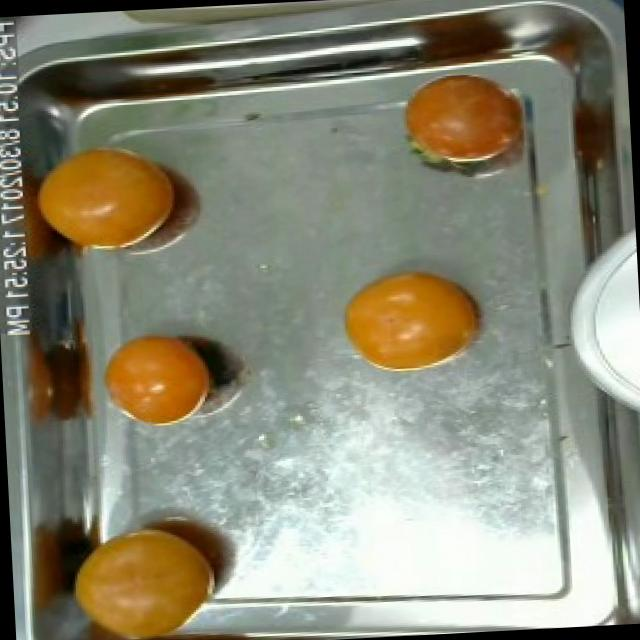Fruit: (55, 507, 240, 640), (25, 129, 193, 267), (332, 255, 497, 377), (387, 67, 538, 182), (92, 317, 232, 438)
